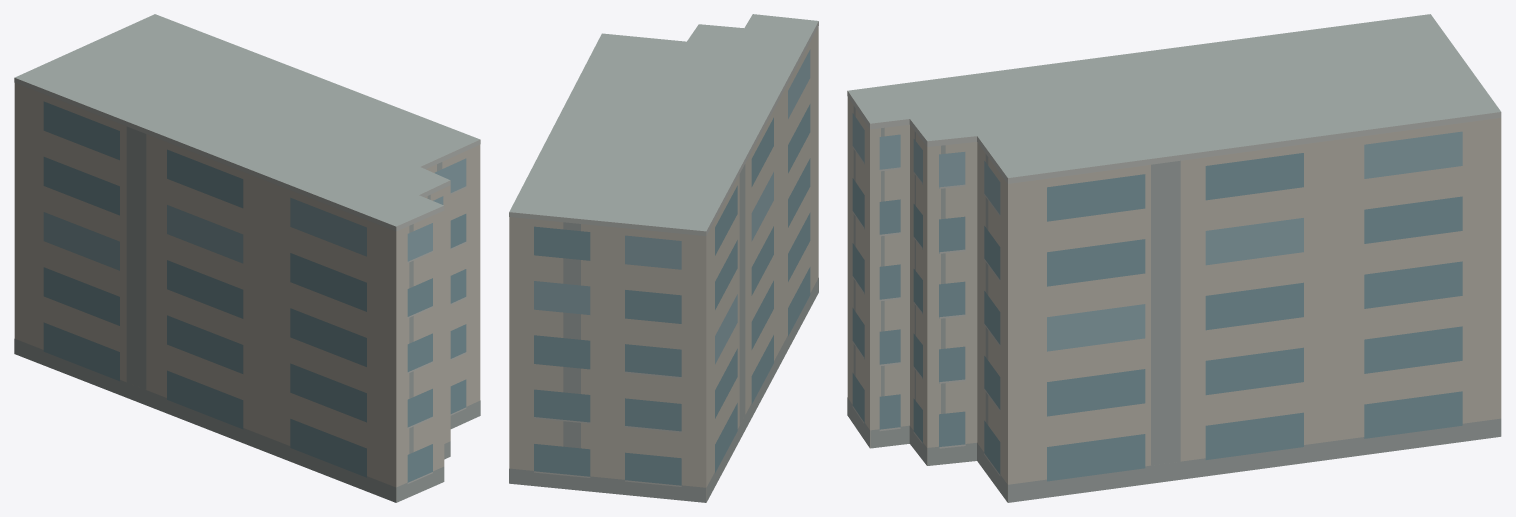
The model's file is survey-upis-32761987.glb.
3 views of the same model, side by side, from view 1: azimuth 30°, elevation 25°; view 2: azimuth 150°, elevation 25°; view 3: azimuth 270°, elevation 25° (orthographic). The views are drawn at different scales.
Visible parts, largest first — view 1: survey-upis-32761987.tmp; view 2: survey-upis-32761987.tmp; view 3: survey-upis-32761987.tmp.
Part boxes in pixels (x1,y1,x2,y2): survey-upis-32761987.tmp: (14,14,480,502); survey-upis-32761987.tmp: (509,14,818,502); survey-upis-32761987.tmp: (847,14,1501,502).
Size of the model in its own units: 14.86 by 13.7 by 25.01.
